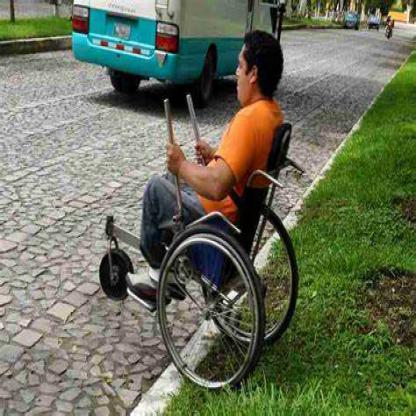wheelchair: (99, 34, 299, 386)
